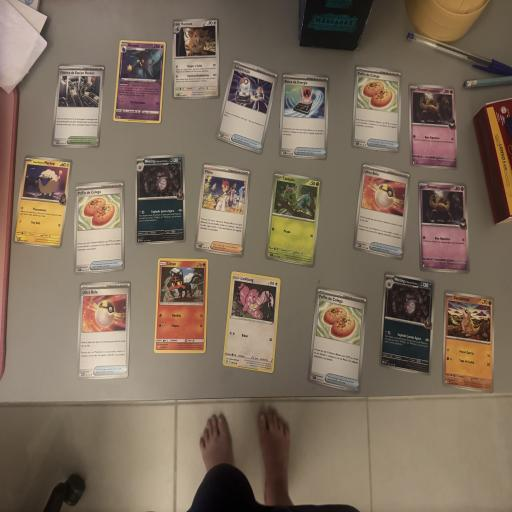card: (307, 286, 369, 394), (214, 58, 281, 155), (222, 271, 283, 373), (378, 272, 437, 376), (352, 162, 413, 261), (12, 153, 74, 250), (264, 170, 324, 267), (77, 280, 132, 381), (154, 257, 210, 356), (442, 290, 495, 394), (194, 163, 252, 258), (51, 61, 106, 151), (418, 180, 470, 275), (74, 180, 125, 275), (135, 154, 187, 246), (351, 65, 404, 154), (278, 72, 330, 160), (113, 39, 166, 124), (408, 83, 457, 171), (172, 17, 221, 100)
